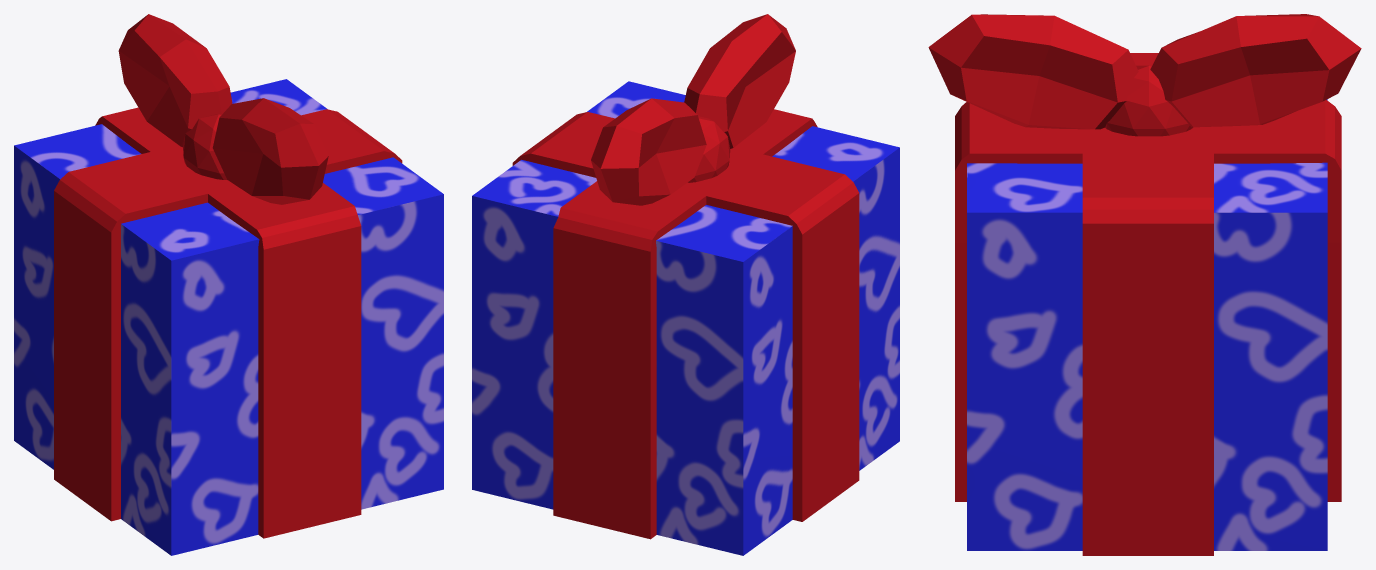
The model's file is present.glb.
3 views of the same model, side by side, from view 1: azimuth 30°, elevation 25°; view 2: azimuth 150°, elevation 25°; view 3: azimuth 270°, elevation 25° (orthographic). The views are drawn at different scales.
Parts seen in each view (by area): view 1: Cube.001, Cube; view 2: Cube.001, Cube; view 3: Cube, Cube.001.
Boxes of the visible parts, <box> form: Cube.001: <box>14,79,443,555</box>; Cube: <box>54,14,402,538</box>; Cube.001: <box>472,81,899,555</box>; Cube: <box>512,14,859,539</box>; Cube: <box>928,14,1361,555</box>; Cube.001: <box>967,99,1327,550</box>.
Size of the model in its own units: 2.37 by 3.1 by 2.66.
Materials: 2 (2 with a texture image).
